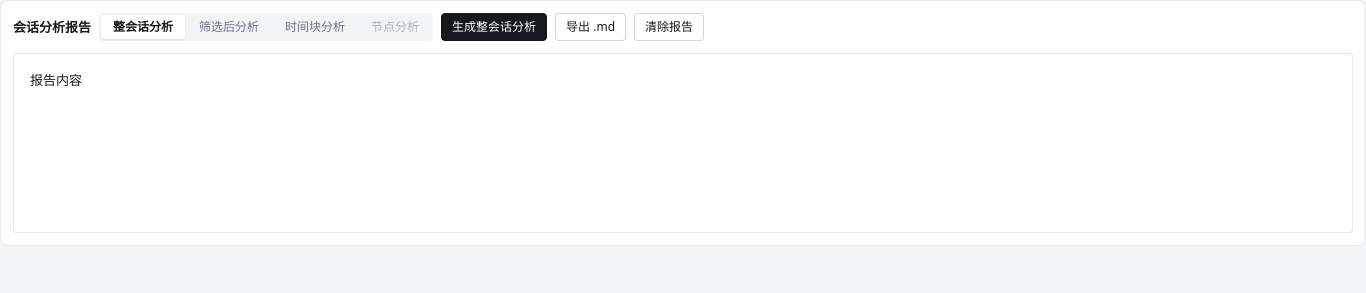
shows a visible error when report export fails
Click the button "导出 .md" at (591, 27), box [555,13,626,41]
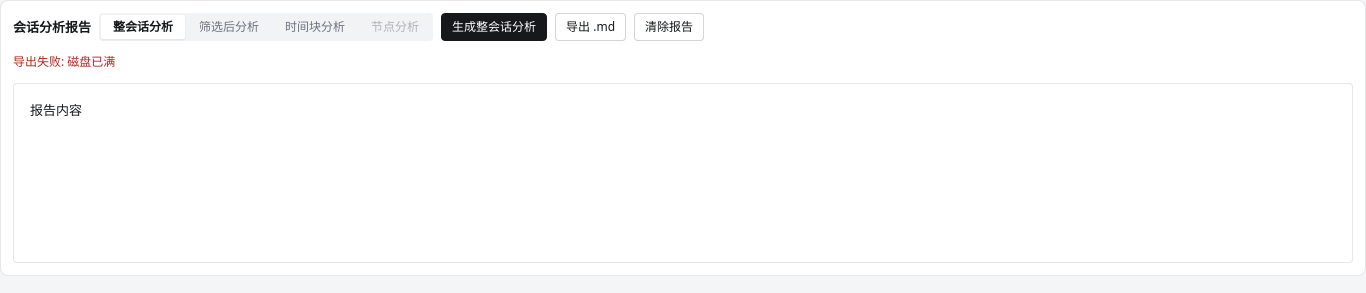
Result: the message reads "导出失败: 磁盘已满" at [13,53,115,70]
